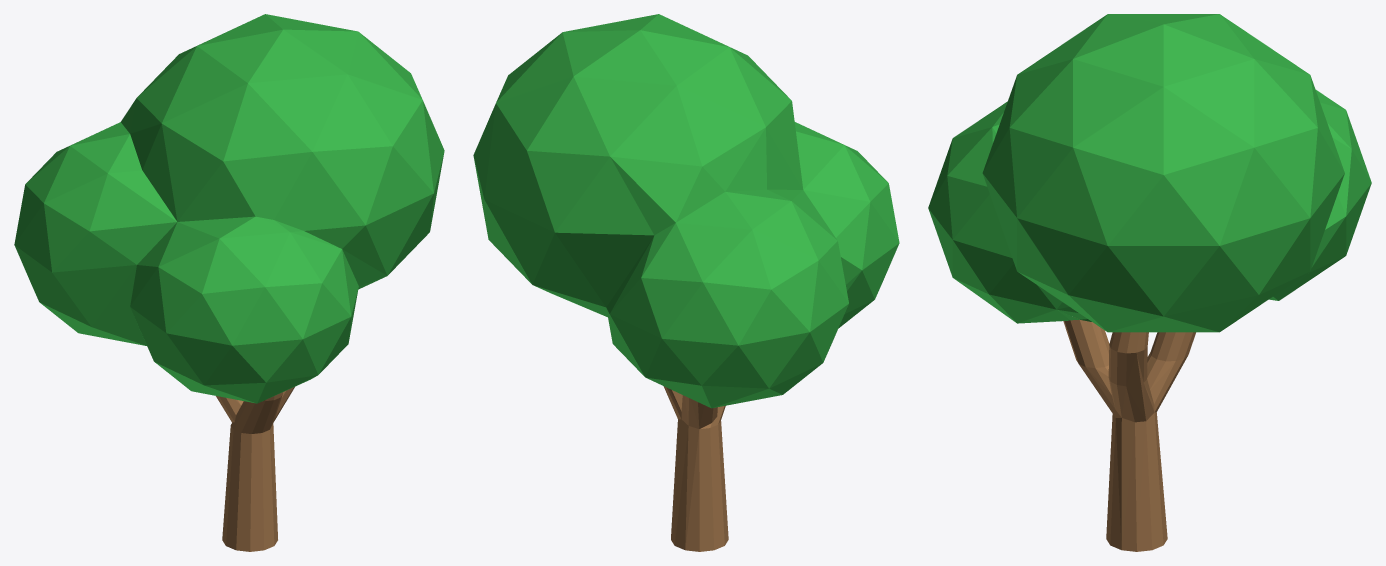
Rendered from myTree2.1.obj.
The picture shows the model from 3 angles, left to right: view 1: azimuth 30°, elevation 25°; view 2: azimuth 150°, elevation 25°; view 3: azimuth 270°, elevation 25°; orthographic projection. The views are drawn at different scales.
Parts seen in each view (by area): view 1: Cylinder_Cylinder.002; view 2: Cylinder_Cylinder.002; view 3: Cylinder_Cylinder.002.
Boxes of the visible parts, left/top/right/bottom form: Cylinder_Cylinder.002: left=14, top=14, right=444, bottom=551; Cylinder_Cylinder.002: left=473, top=14, right=899, bottom=551; Cylinder_Cylinder.002: left=928, top=14, right=1371, bottom=551.
Bounding box in the file's own units: 19.36 × 25.75 × 19.22.
